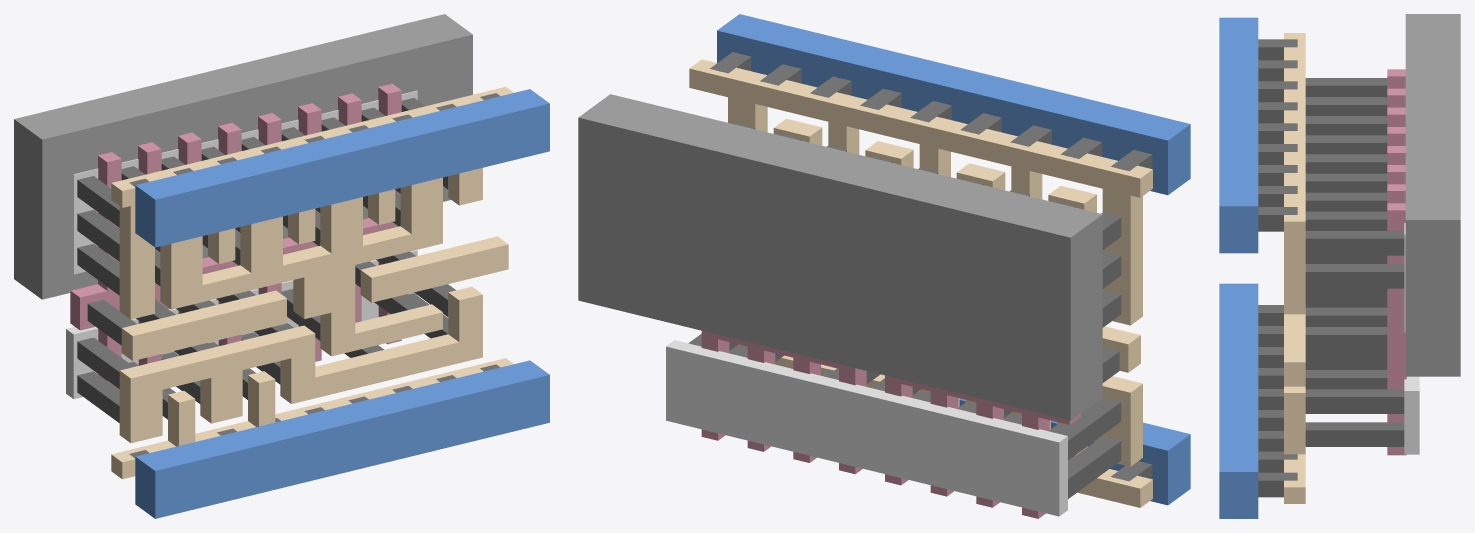
File: sky130_fd_sc_hd__nand2_4.gds.gltf
The picture shows the model from 3 angles, left to right: view 1: azimuth 30°, elevation 25°; view 2: azimuth 150°, elevation 25°; view 3: azimuth 270°, elevation 25°; orthographic projection. The views are drawn at different scales.
Parts seen in each view (by area): view 1: sky130_fd_sc_hd__nand2_4_li1, sky130_fd_sc_hd__nand2_4_met1, sky130_fd_sc_hd__nand2_4_nwell, sky130_fd_sc_hd__nand2_4_licon, sky130_fd_sc_hd__nand2_4_poly, sky130_fd_sc_hd__nand2_4_diff, sky130_fd_sc_hd__nand2_4_mcon; view 2: sky130_fd_sc_hd__nand2_4_nwell, sky130_fd_sc_hd__nand2_4_diff, sky130_fd_sc_hd__nand2_4_li1, sky130_fd_sc_hd__nand2_4_met1, sky130_fd_sc_hd__nand2_4_licon, sky130_fd_sc_hd__nand2_4_poly, sky130_fd_sc_hd__nand2_4_mcon; view 3: sky130_fd_sc_hd__nand2_4_licon, sky130_fd_sc_hd__nand2_4_nwell, sky130_fd_sc_hd__nand2_4_met1, sky130_fd_sc_hd__nand2_4_mcon, sky130_fd_sc_hd__nand2_4_li1, sky130_fd_sc_hd__nand2_4_poly, sky130_fd_sc_hd__nand2_4_diff.
Boxes of the visible parts, bbox=[...] form: sky130_fd_sc_hd__nand2_4_li1: bbox=[111, 86, 513, 479]; sky130_fd_sc_hd__nand2_4_met1: bbox=[135, 89, 549, 518]; sky130_fd_sc_hd__nand2_4_nwell: bbox=[14, 14, 472, 299]; sky130_fd_sc_hd__nand2_4_licon: bbox=[77, 98, 455, 422]; sky130_fd_sc_hd__nand2_4_poly: bbox=[70, 83, 401, 389]; sky130_fd_sc_hd__nand2_4_diff: bbox=[66, 90, 417, 399]; sky130_fd_sc_hd__nand2_4_mcon: bbox=[129, 93, 500, 457]; sky130_fd_sc_hd__nand2_4_nwell: bbox=[578, 94, 1102, 420]; sky130_fd_sc_hd__nand2_4_diff: bbox=[666, 340, 1067, 516]; sky130_fd_sc_hd__nand2_4_li1: bbox=[689, 59, 1152, 507]; sky130_fd_sc_hd__nand2_4_met1: bbox=[717, 14, 1190, 505]; sky130_fd_sc_hd__nand2_4_licon: bbox=[688, 123, 1121, 498]; sky130_fd_sc_hd__nand2_4_poly: bbox=[701, 331, 1080, 518]; sky130_fd_sc_hd__nand2_4_mcon: bbox=[710, 52, 1152, 481]; sky130_fd_sc_hd__nand2_4_licon: bbox=[1305, 78, 1404, 446]; sky130_fd_sc_hd__nand2_4_nwell: bbox=[1405, 14, 1460, 376]; sky130_fd_sc_hd__nand2_4_met1: bbox=[1219, 17, 1258, 518]; sky130_fd_sc_hd__nand2_4_mcon: bbox=[1258, 39, 1297, 497]; sky130_fd_sc_hd__nand2_4_li1: bbox=[1284, 33, 1305, 503]; sky130_fd_sc_hd__nand2_4_poly: bbox=[1387, 69, 1406, 455]; sky130_fd_sc_hd__nand2_4_diff: bbox=[1404, 223, 1419, 454].
Size of the model in its own units: 4.52 by 3.2 by 2.24.
